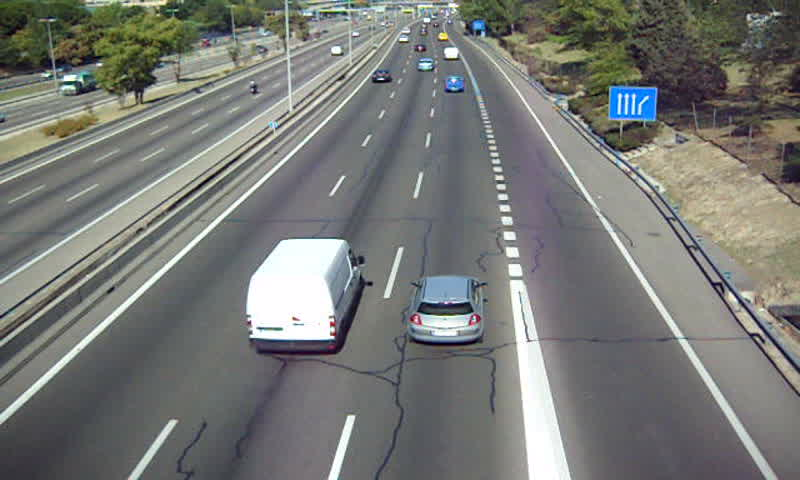car: (410, 277, 483, 342), (443, 74, 467, 94), (369, 70, 393, 85), (416, 57, 434, 72)
van: (247, 239, 365, 354)
